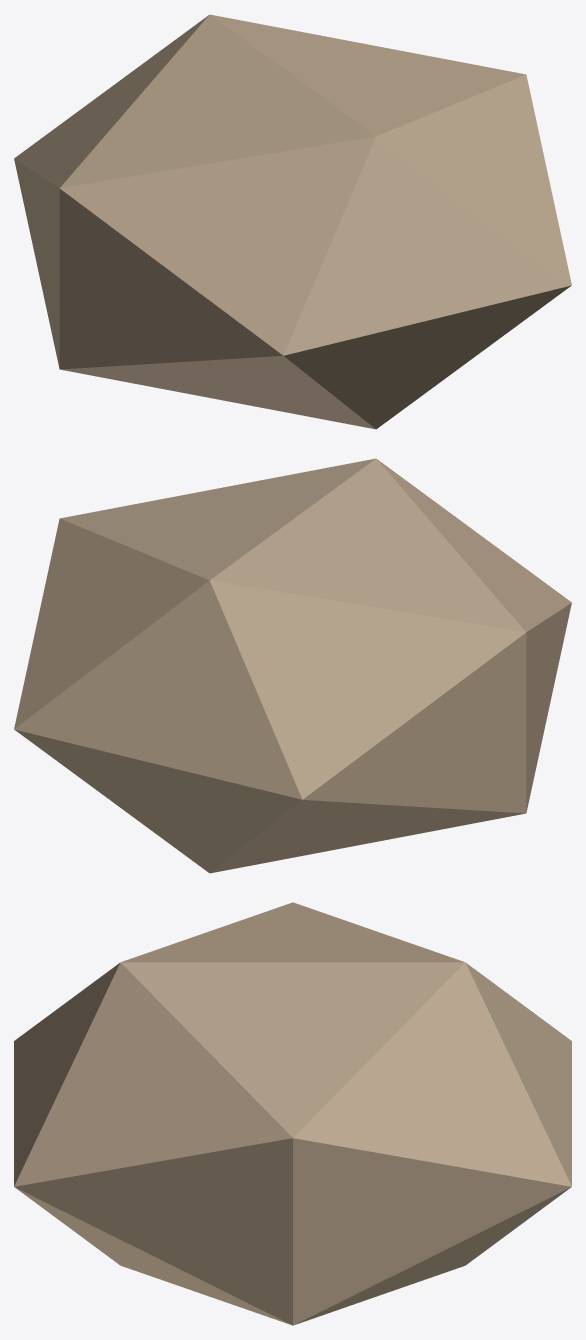
The model's file is w_fels_a.glb.
3 views of the same model, one above another, from view 1: azimuth 30°, elevation 25°; view 2: azimuth 150°, elevation 25°; view 3: azimuth 270°, elevation 25° (orthographic). The views are drawn at different scales.
Visible parts, largest first — view 1: koerper; view 2: koerper; view 3: koerper.
Part boxes in pixels (x1,y1,x2,y2): koerper: (14, 14, 571, 429); koerper: (14, 458, 571, 873); koerper: (14, 902, 571, 1325).
Size of the model in its own units: 4.66 by 2.8 by 4.66.
